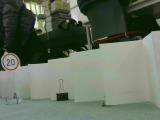speed_20: (1, 51, 22, 72)
